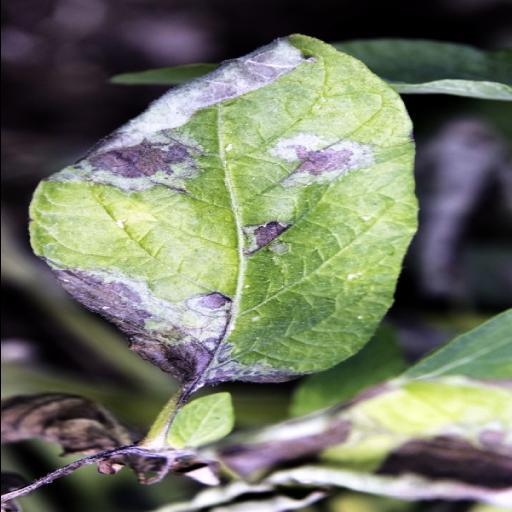Late Blight: (26, 30, 420, 390)
